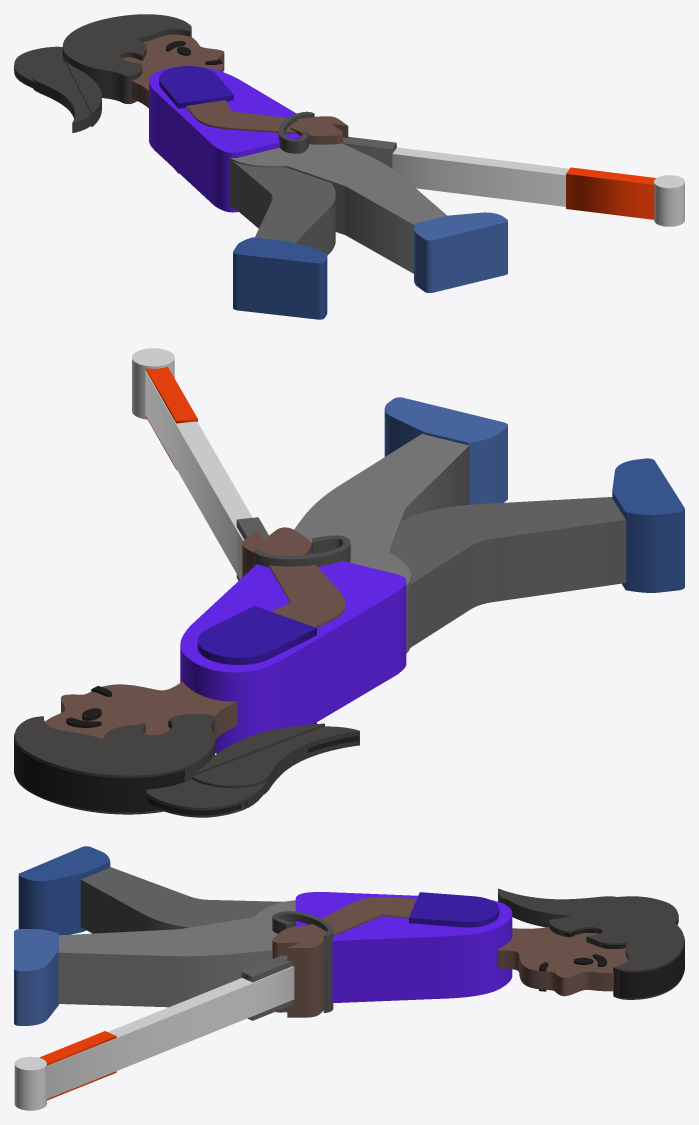
File: emoji_u1f469_1f3ff_200d_1f9af_200d_27a1.glb
3 renders of one model, top to bottom at view 1: azimuth 30°, elevation 25°; view 2: azimuth 150°, elevation 25°; view 3: azimuth 270°, elevation 25°, orthographic. The views are drawn at different scales.
Visible parts, largest first — view 1: emoji_u1f469_1f3ff_200d_1f9af_200d_27a1; view 2: emoji_u1f469_1f3ff_200d_1f9af_200d_27a1; view 3: emoji_u1f469_1f3ff_200d_1f9af_200d_27a1.
Part boxes in pixels (box(x1,y1,x2,y2)): emoji_u1f469_1f3ff_200d_1f9af_200d_27a1: box(14, 14, 684, 319); emoji_u1f469_1f3ff_200d_1f9af_200d_27a1: box(14, 348, 684, 817); emoji_u1f469_1f3ff_200d_1f9af_200d_27a1: box(14, 846, 684, 1110).
Size of the model in its own units: 0.0252 by 0.0042 by 0.0332.
